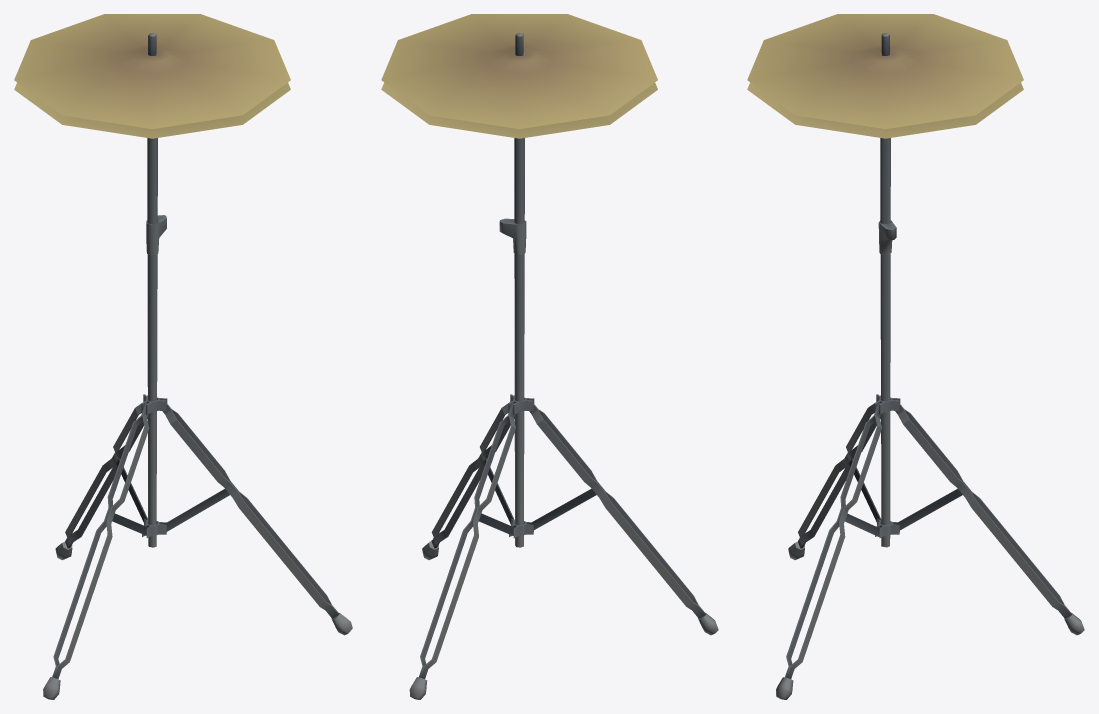
Rendered from human-music-cymbal_v2.glb.
3 views of the same model, side by side, from view 1: azimuth 30°, elevation 25°; view 2: azimuth 150°, elevation 25°; view 3: azimuth 270°, elevation 25° (orthographic).
Visible parts, largest first — view 1: Cymbal_v2; view 2: Cymbal_v2; view 3: Cymbal_v2.
Boxes of the visible parts, box(x1,y1,x2,y2) form: Cymbal_v2: box(14, 14, 352, 699); Cymbal_v2: box(381, 14, 718, 699); Cymbal_v2: box(747, 14, 1084, 699).
Size of the model in its own units: 0.6341 by 1.2 by 0.615.
